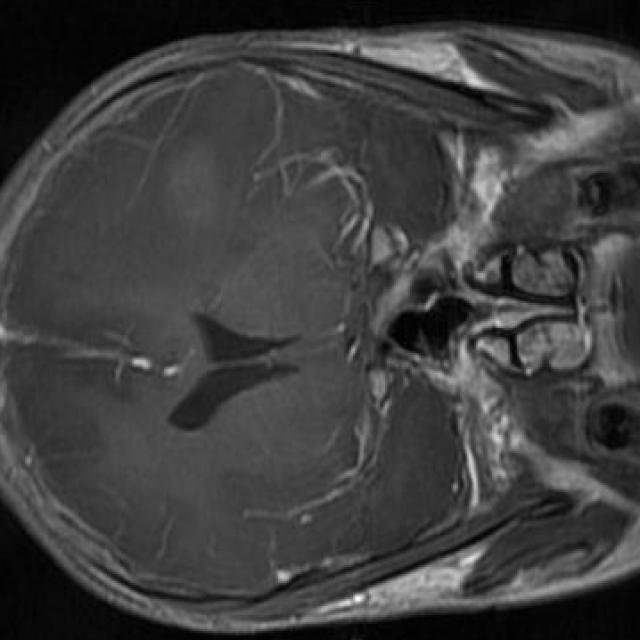glioma: (166, 148, 221, 230)
